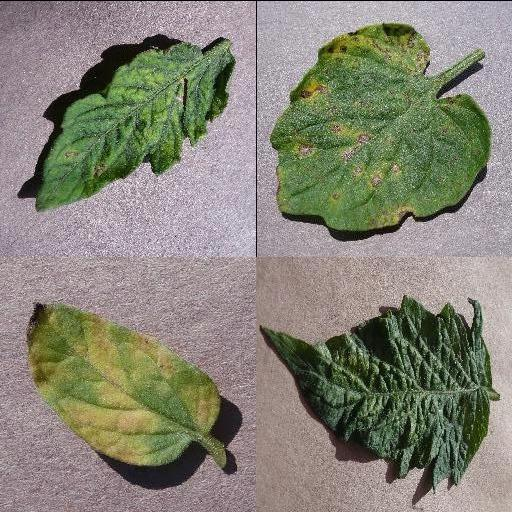Leaf Mold: (25, 300, 221, 464)
Mosaic Virus: (34, 39, 238, 213)
Septoria: (269, 21, 491, 233)
Spider Mites: (260, 296, 490, 492)
